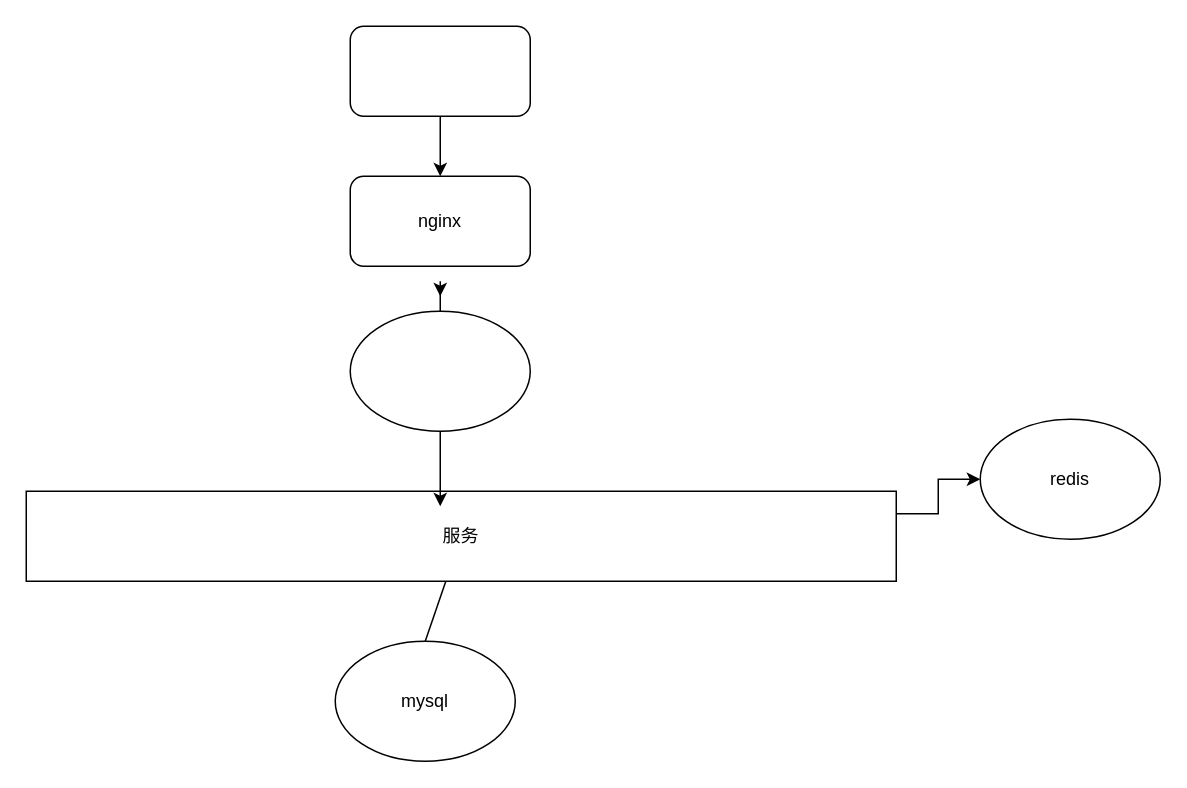
This 1187x788 diagram has some shape labels left out. The shapes that lost their labels are listed below. From the top down, each one's centre as x and y in pixels, then its label:
At [439,70]: "浏览器".
At [439,370]: "spirng security过滤".
